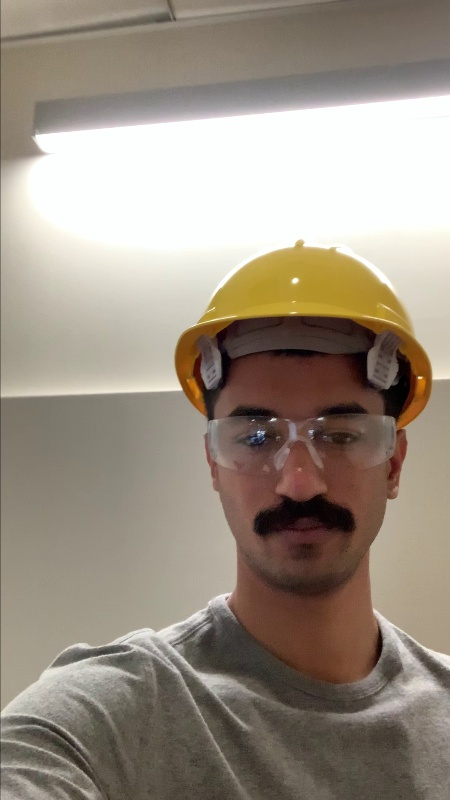glasses: (202, 411, 398, 469)
helmet: (197, 237, 417, 328)
